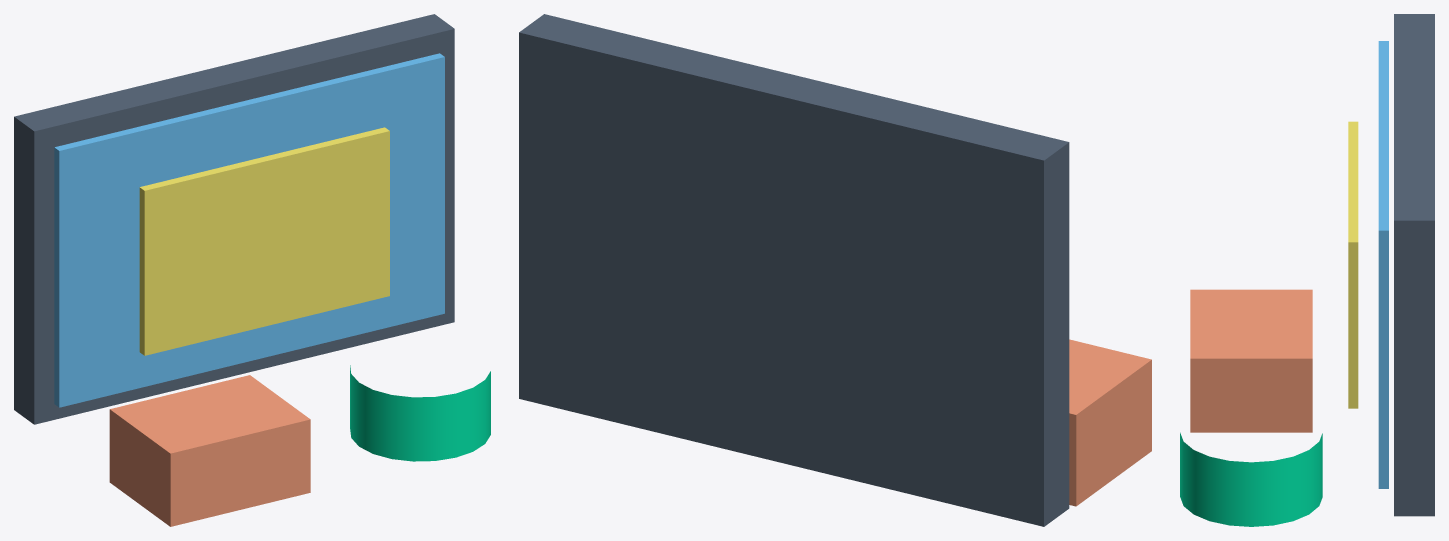
The model's file is computer_graphics.glb.
3 views of the same model, side by side, from view 1: azimuth 30°, elevation 25°; view 2: azimuth 150°, elevation 25°; view 3: azimuth 270°, elevation 25° (orthographic). The views are drawn at different scales.
Parts seen in each view (by area): view 1: FrameBufferPixelGrid, ClippingFrustumWindow, RasterDisplayCRT, RasterizerCore, TransformationMatrixGizmo; view 2: RasterDisplayCRT, RasterizerCore; view 3: RasterDisplayCRT, RasterizerCore, TransformationMatrixGizmo, FrameBufferPixelGrid, ClippingFrustumWindow.
Part boxes in pixels (x1,y1,x2,y2): FrameBufferPixelGrid: (54, 53, 444, 407); ClippingFrustumWindow: (139, 127, 389, 355); RasterDisplayCRT: (14, 14, 454, 424); RasterizerCore: (109, 375, 310, 526); TransformationMatrixGizmo: (350, 365, 490, 461); RasterDisplayCRT: (519, 14, 1069, 526); RasterizerCore: (1069, 339, 1151, 506); RasterDisplayCRT: (1394, 14, 1434, 516); RasterizerCore: (1190, 289, 1312, 432); TransformationMatrixGizmo: (1180, 432, 1322, 526); FrameBufferPixelGrid: (1378, 41, 1388, 488); ClippingFrustumWindow: (1348, 121, 1358, 408).
Bounding box in the file's own units: 2.4 × 1.8 × 1.25.
